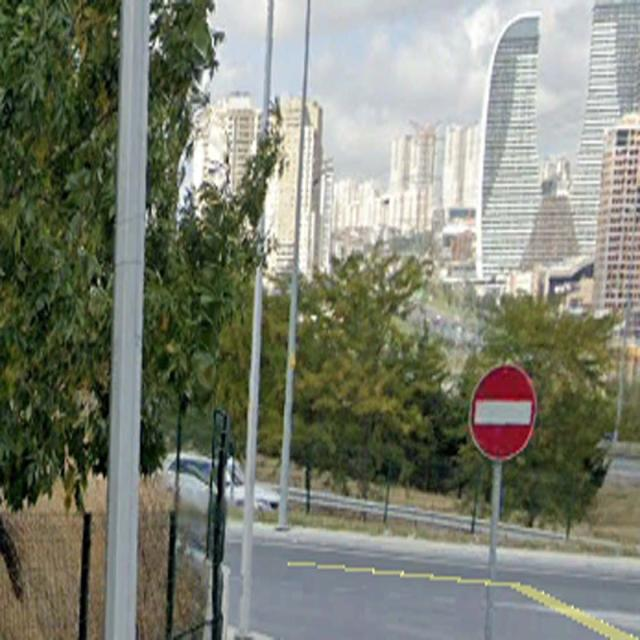girisyok: (468, 362, 536, 459)
